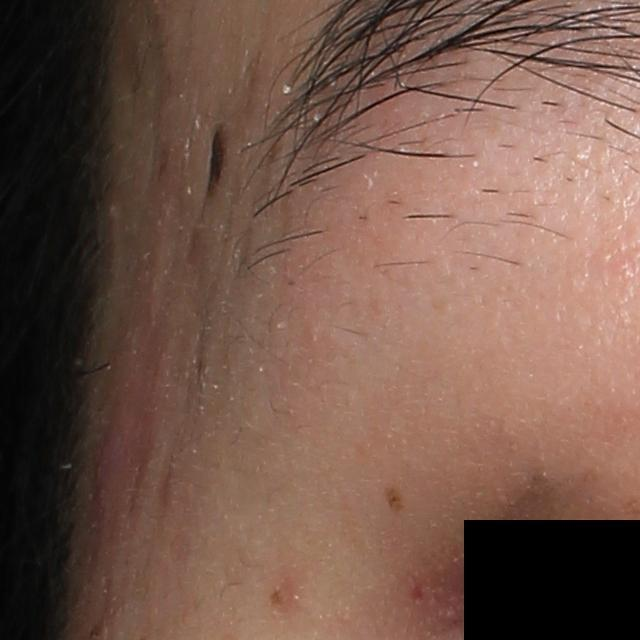melasma: (385, 484, 407, 515)
nevus: (206, 120, 230, 204)
